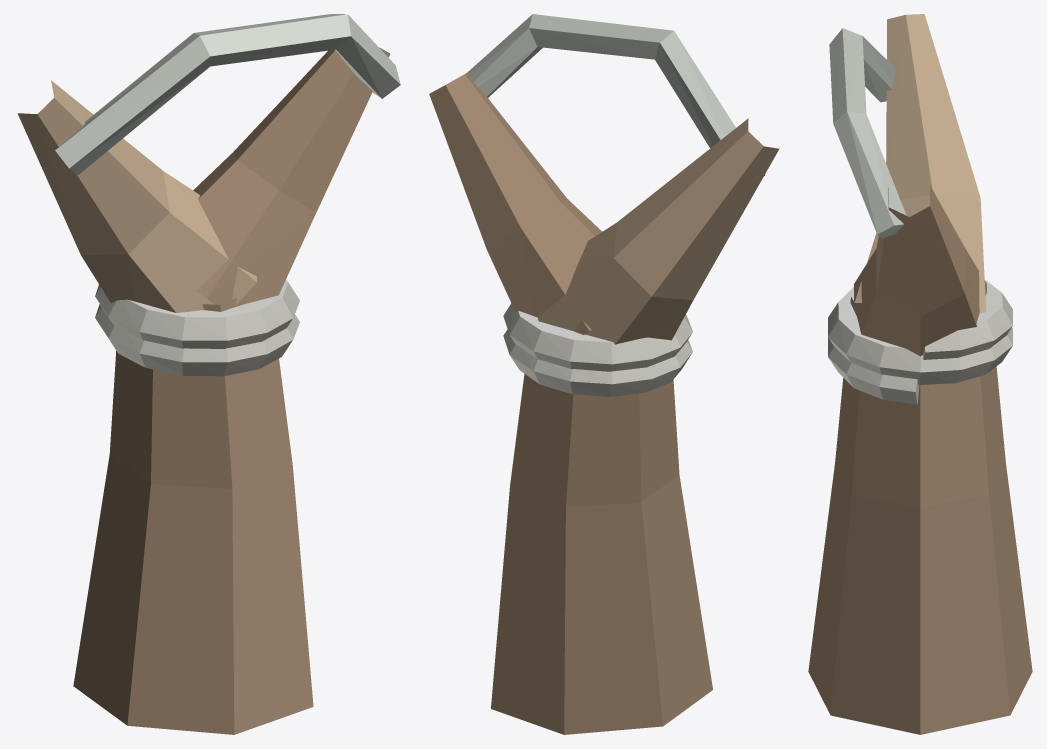
The model's file is forked_rail_fixture.glb.
3 views of the same model, side by side, from view 1: azimuth 30°, elevation 25°; view 2: azimuth 150°, elevation 25°; view 3: azimuth 270°, elevation 25° (orthographic). The views are drawn at different scales.
Parts seen in each view (by area): view 1: ForkStem, LeftFork, RightFork, OpenSilkLoop, ForkBinding; view 2: ForkStem, LeftFork, RightFork, ForkBinding, OpenSilkLoop; view 3: ForkStem, LeftFork, RightFork, ForkBinding, OpenSilkLoop.
Boxes of the visible parts, x1=… form: ForkStem: x1=73, y1=293, x2=313, y2=734; LeftFork: x1=17, y1=80, x2=256, y2=312; RightFork: x1=193, y1=47, x2=390, y2=304; OpenSilkLoop: x1=55, y1=14, x2=400, y2=174; ForkBinding: x1=95, y1=279, x2=299, y2=376; ForkStem: x1=491, y1=374, x2=712, y2=734; LeftFork: x1=537, y1=118, x2=779, y2=344; RightFork: x1=429, y1=72, x2=602, y2=334; ForkBinding: x1=503, y1=303, x2=692, y2=396; OpenSilkLoop: x1=467, y1=14, x2=765, y2=175; ForkStem: x1=808, y1=297, x2=1032, y2=734; LeftFork: x1=854, y1=14, x2=986, y2=313; RightFork: x1=854, y1=185, x2=986, y2=356; ForkBinding: x1=828, y1=280, x2=1012, y2=404; OpenSilkLoop: x1=829, y1=28, x2=906, y2=238.
Size of the model in its own units: 0.2182 by 0.387 by 0.1228.
